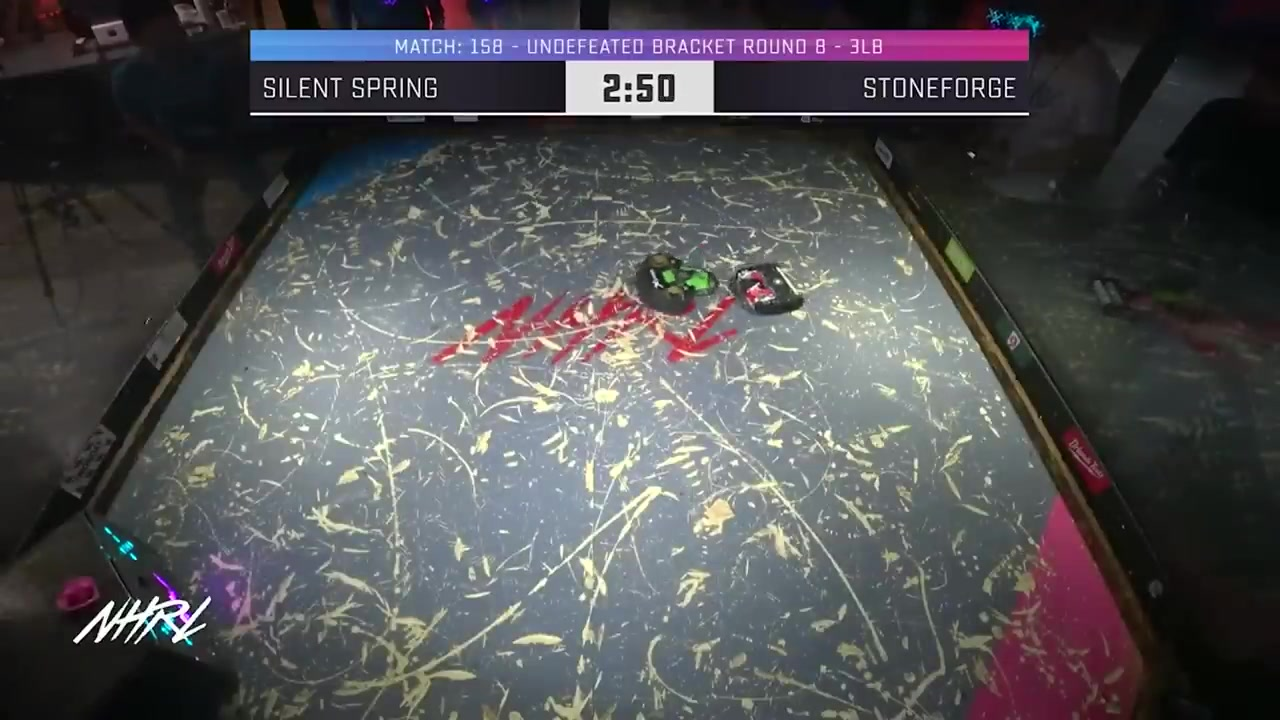combatbot: (636, 251, 721, 319), (730, 259, 805, 320)
housebot: (0, 503, 243, 720)
